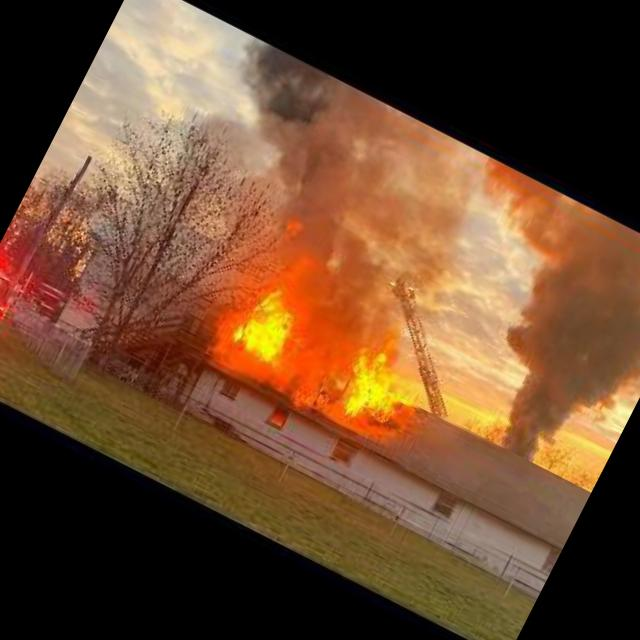fire: (204, 230, 462, 454), (279, 215, 306, 242)
smoke: (174, 30, 504, 318), (414, 175, 640, 487)
